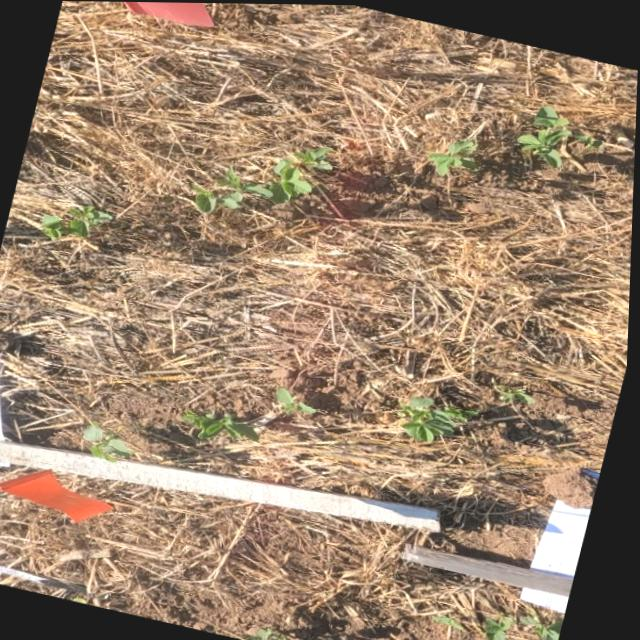soy_plant: (194, 145, 331, 212), (517, 104, 605, 166), (2, 477, 108, 520), (400, 394, 482, 441), (41, 204, 112, 238), (184, 408, 260, 439), (485, 611, 564, 640), (429, 134, 477, 174), (85, 421, 134, 460), (276, 385, 319, 413), (494, 380, 536, 404), (249, 628, 290, 640), (436, 612, 466, 626)
